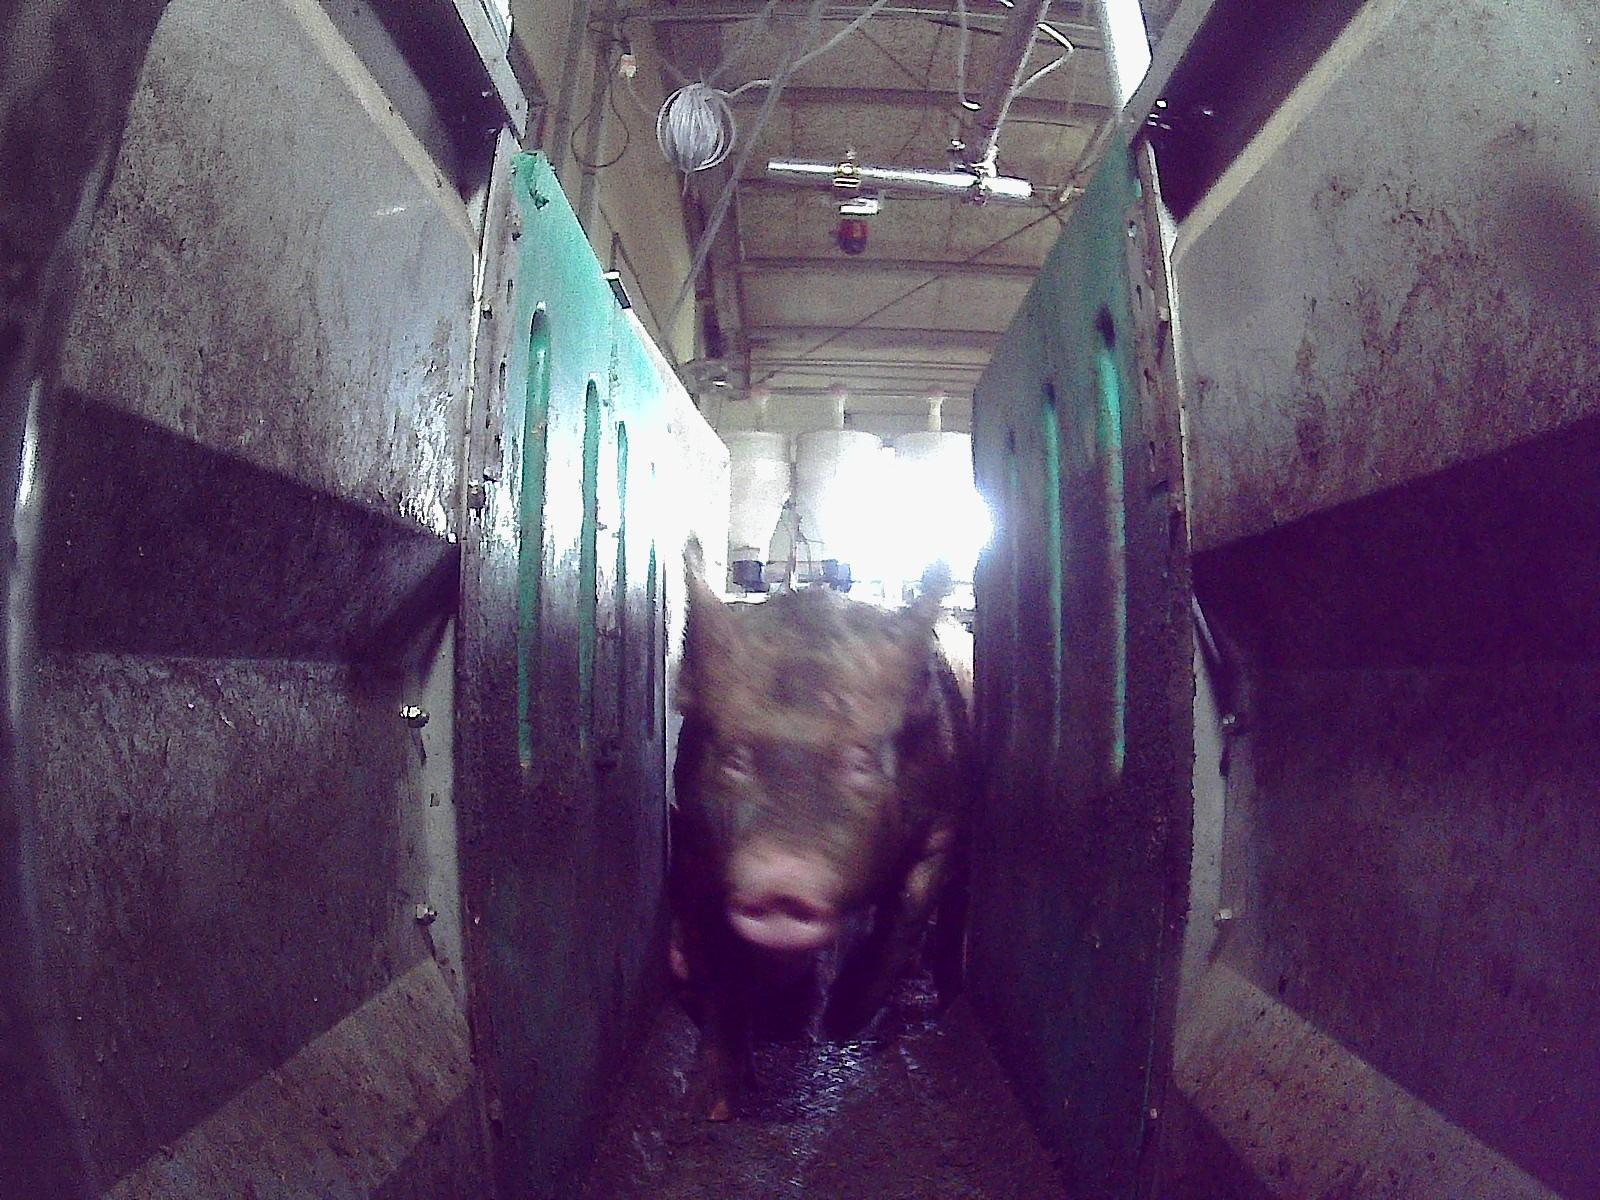Face: (702, 602, 897, 950)
